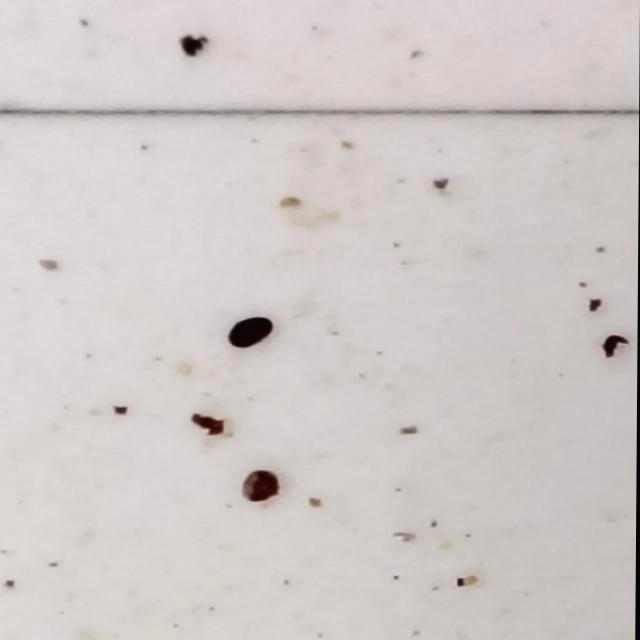varroa: (222, 316, 274, 352), (237, 470, 282, 506)
